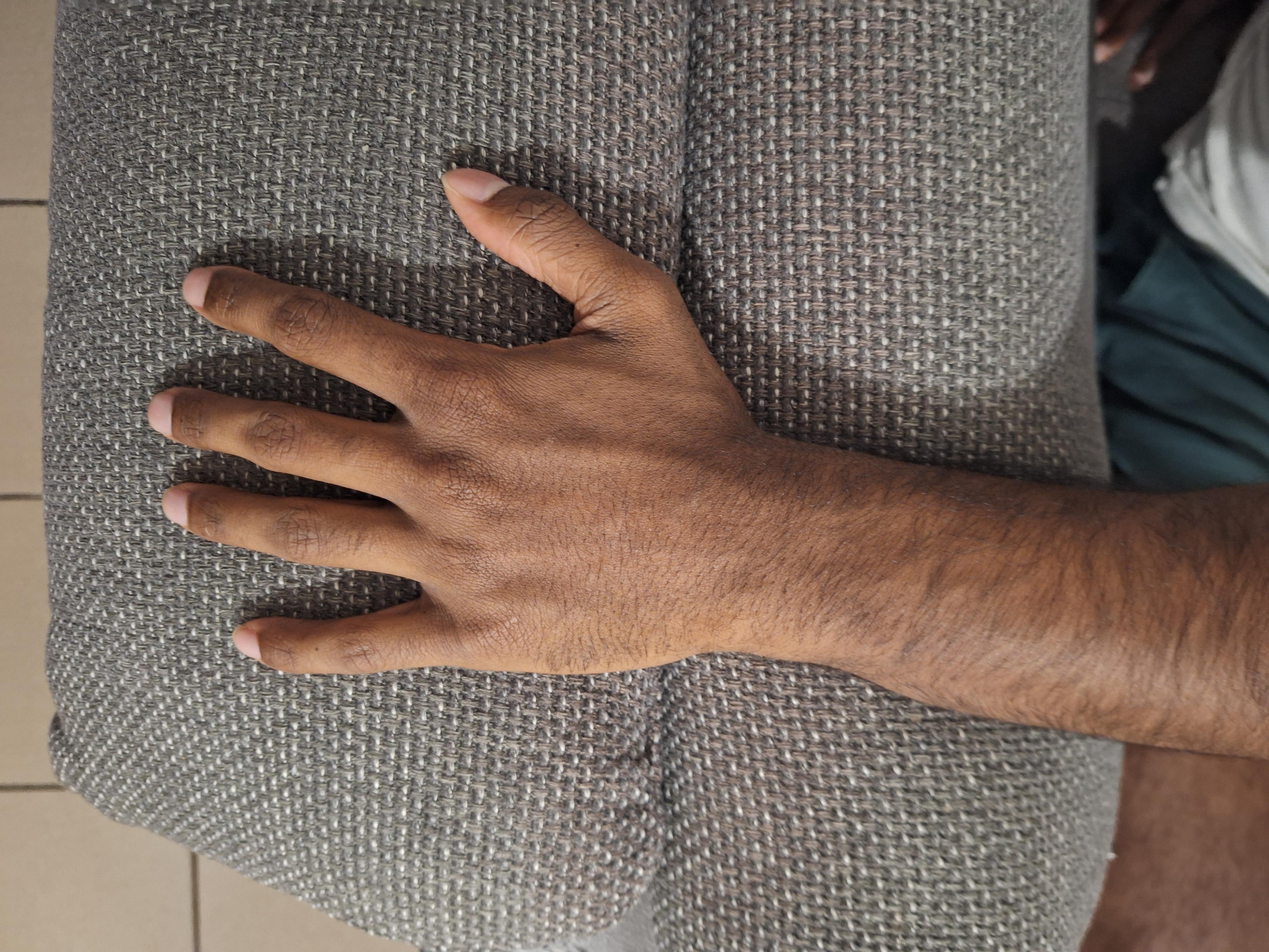Fingernail: (440, 168, 510, 203), (146, 393, 174, 438), (181, 267, 211, 308), (162, 487, 190, 527), (233, 626, 262, 660)
